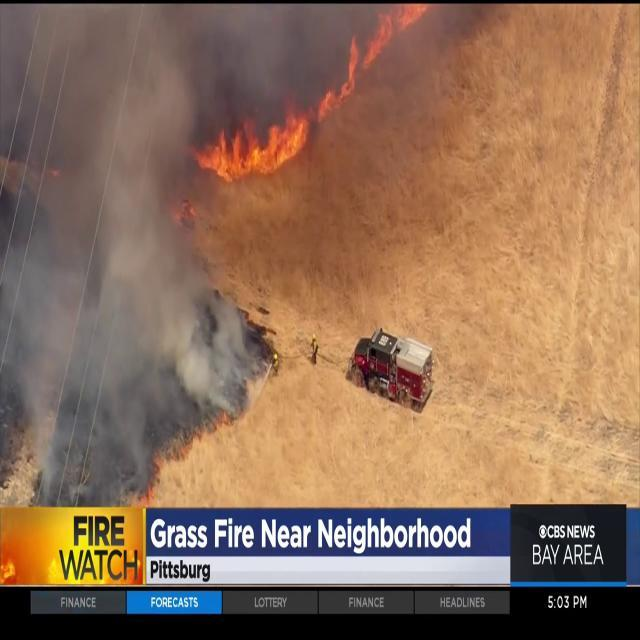Fire: (194, 94, 317, 180), (342, 4, 398, 92)
Smoke: (0, 2, 240, 470)
